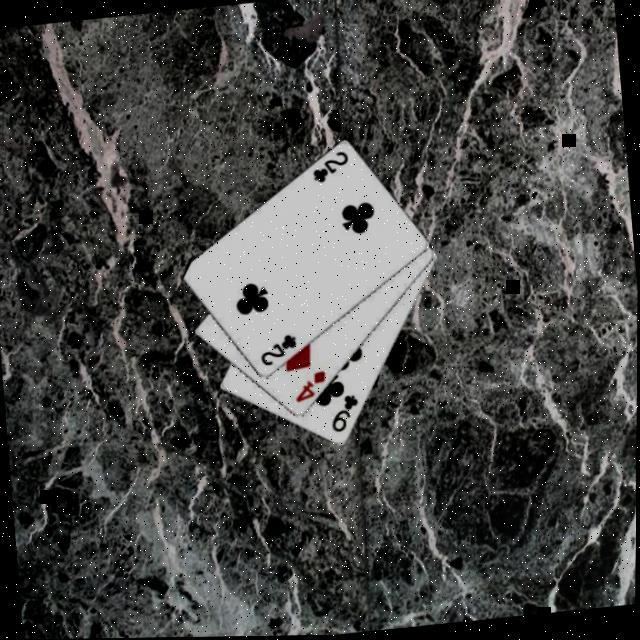2C: (257, 331, 302, 371), (308, 149, 353, 189)
4D: (291, 370, 331, 407)
9C: (327, 392, 365, 437)
